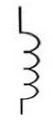inductor: (12, 24, 42, 106)
